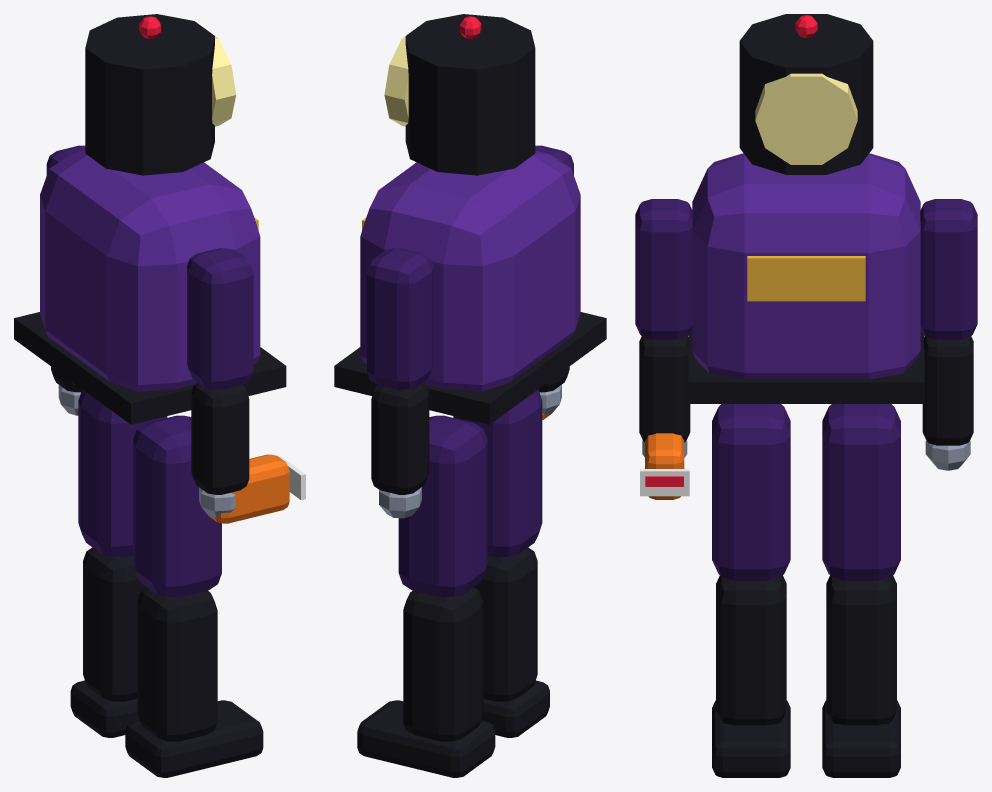
File: vigile_nuit.glb
The picture shows the model from 3 angles, left to right: view 1: azimuth 30°, elevation 25°; view 2: azimuth 150°, elevation 25°; view 3: azimuth 270°, elevation 25°; orthographic projection.
Parts seen in each view (by area): view 1: p_rbox.2190, p_cyl.1691, p_rbox.2184, p_rbox.2185, p_rbox.2191, p_rbox.2187, p_rbox.2188, p_box.8463, p_rbox.2192, p_rbox.2186, p_rbox.2193, p_rbox.2189 (+3 smaller); view 2: p_rbox.2190, p_cyl.1691, p_rbox.2187, p_rbox.2188, p_rbox.2194, p_rbox.2184, p_rbox.2185, p_box.8463, p_rbox.2195, p_rbox.2189, p_rbox.2186, p_cyl.1692 (+1 smaller); view 3: p_rbox.2190, p_rbox.2187, p_rbox.2184, p_cyl.1691, p_rbox.2188, p_rbox.2185, p_rbox.2194, p_rbox.2191, p_cyl.1692, p_box.8463, p_box.8462, p_rbox.2195 (+6 smaller).
Boxes of the visible parts, x1,y1,x2,y2 form: p_rbox.2190: [40, 151, 260, 391]; p_cyl.1691: [85, 14, 214, 175]; p_rbox.2184: [133, 415, 221, 597]; p_rbox.2185: [137, 587, 217, 741]; p_rbox.2191: [187, 248, 253, 389]; p_rbox.2187: [78, 389, 167, 557]; p_rbox.2188: [83, 547, 146, 701]; p_box.8463: [14, 312, 286, 424]; p_rbox.2192: [191, 382, 249, 494]; p_rbox.2186: [125, 700, 263, 777]; p_rbox.2193: [209, 454, 289, 523]; p_rbox.2189: [70, 680, 139, 737]; p_rbox.2190: [360, 150, 580, 391]; p_cyl.1691: [405, 14, 535, 175]; p_rbox.2187: [398, 415, 487, 597]; p_rbox.2188: [403, 587, 483, 741]; p_rbox.2194: [367, 248, 433, 389]; p_rbox.2184: [453, 389, 542, 557]; p_rbox.2185: [474, 547, 537, 701]; p_box.8463: [334, 312, 606, 424]; p_rbox.2195: [371, 383, 429, 494]; p_rbox.2189: [357, 700, 495, 777]; p_rbox.2186: [481, 680, 549, 737]; p_cyl.1692: [384, 27, 417, 126]; p_rbox.2190: [692, 153, 920, 379]; p_rbox.2187: [822, 404, 900, 580]; p_rbox.2184: [712, 404, 790, 580]; p_cyl.1691: [739, 14, 873, 174]; p_rbox.2188: [826, 575, 896, 725]; p_rbox.2185: [716, 575, 786, 725]; p_rbox.2194: [920, 199, 977, 339]; p_rbox.2191: [635, 199, 692, 339]; p_cyl.1692: [755, 73, 857, 164]; p_box.8463: [688, 329, 924, 403]; p_box.8462: [747, 256, 865, 301]; p_rbox.2195: [922, 336, 973, 445].
Bounding box in the file's own units: 0.465 × 2.05 × 0.87.
